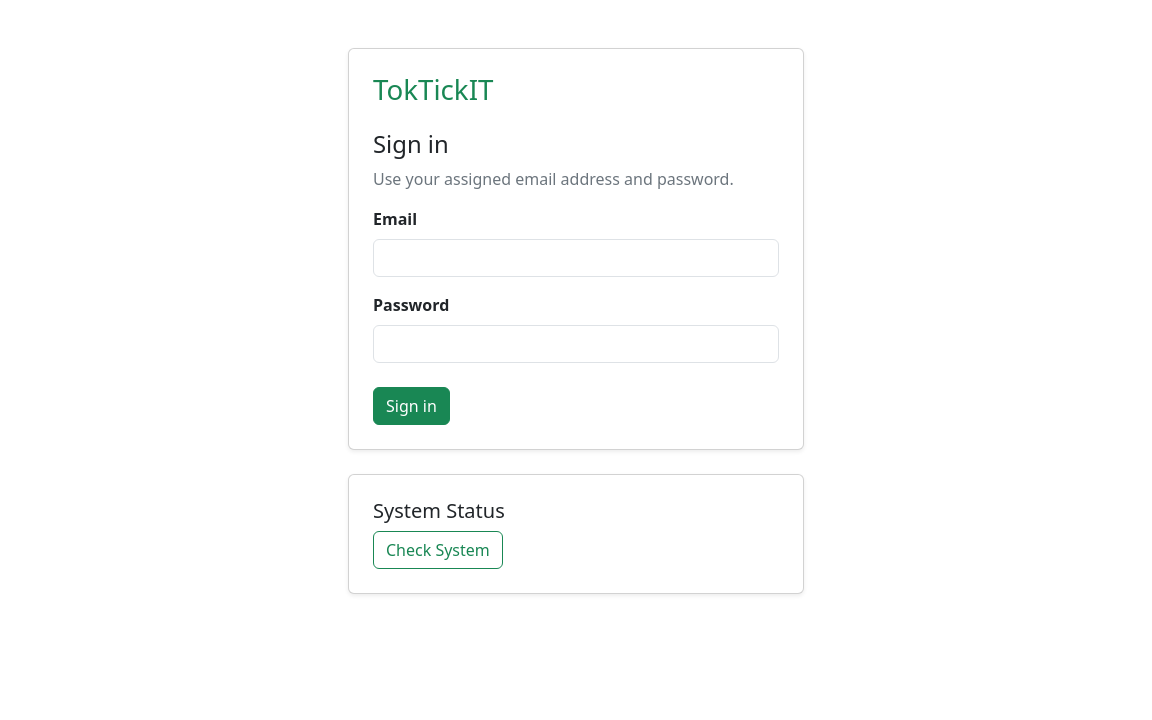
Test: Authenticated requester identity replaces development selection › uses the authenticated User for the requester shell
The width and height of the screenshot is (1152, 720).
Type "ben.carter@example.test" into the field labelled "Email". click: x=576, y=258
box: [373,239,779,277]
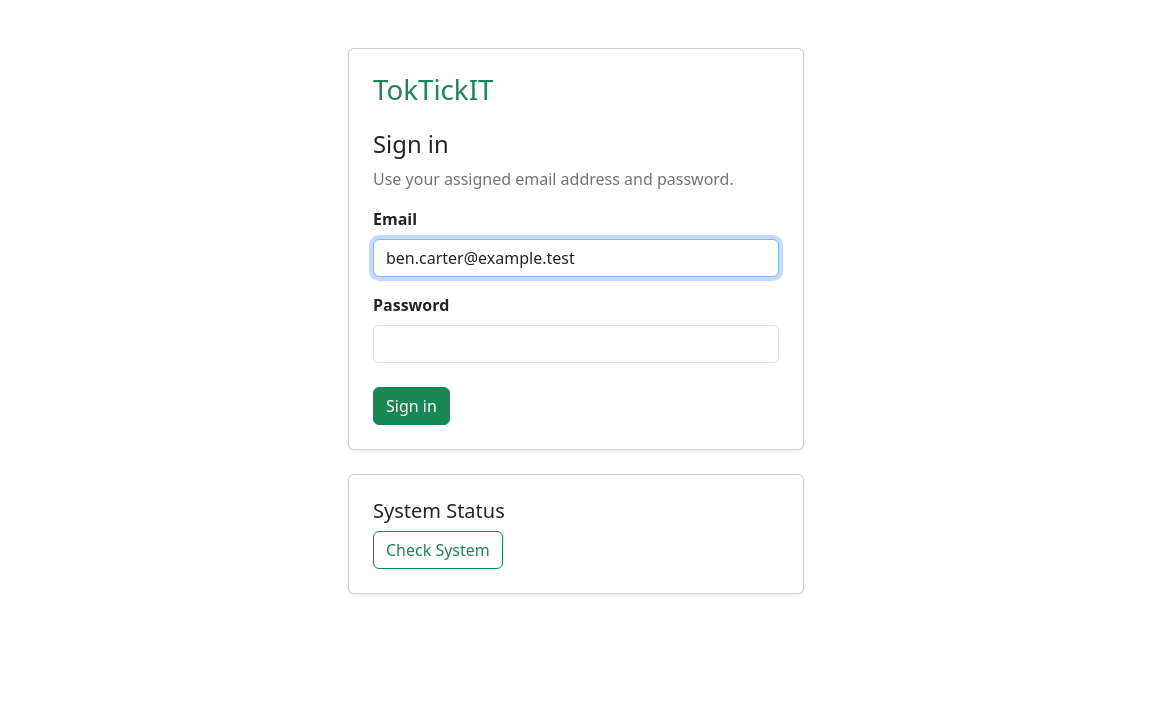
Type "Password!2026" into the password field labelled "Password". click: x=576, y=344
box: [373,325,779,363]
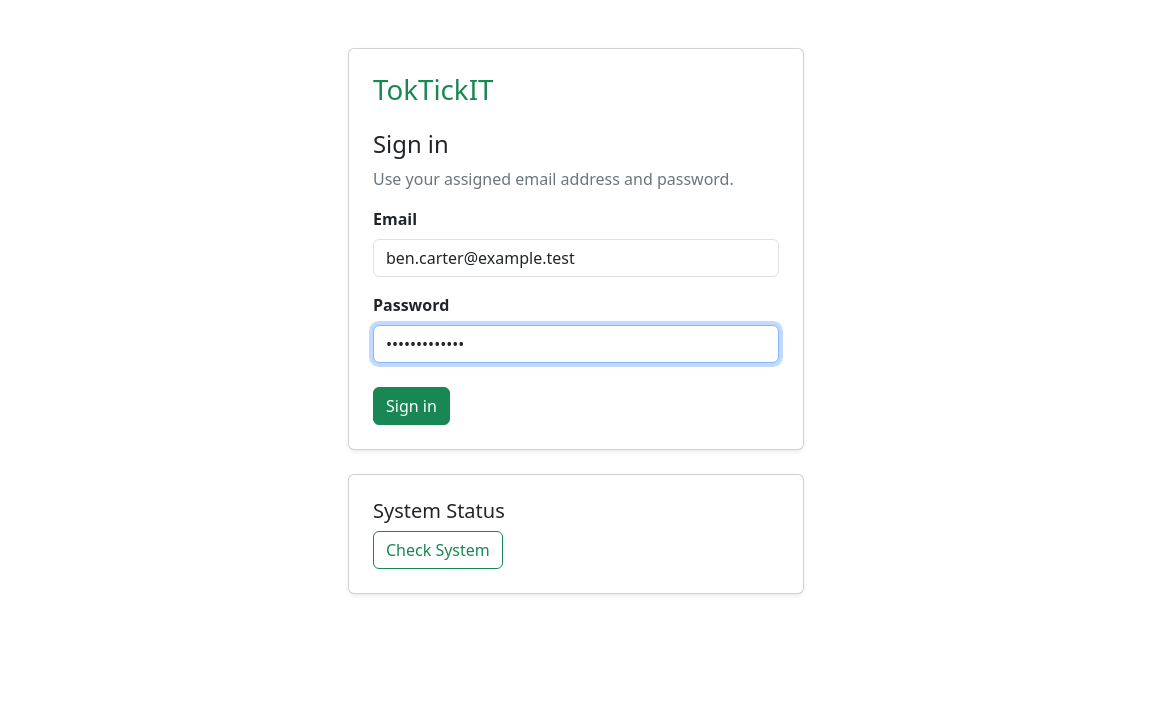
Click the button "Sign in". click: x=411, y=406
box: [373,387,450,425]
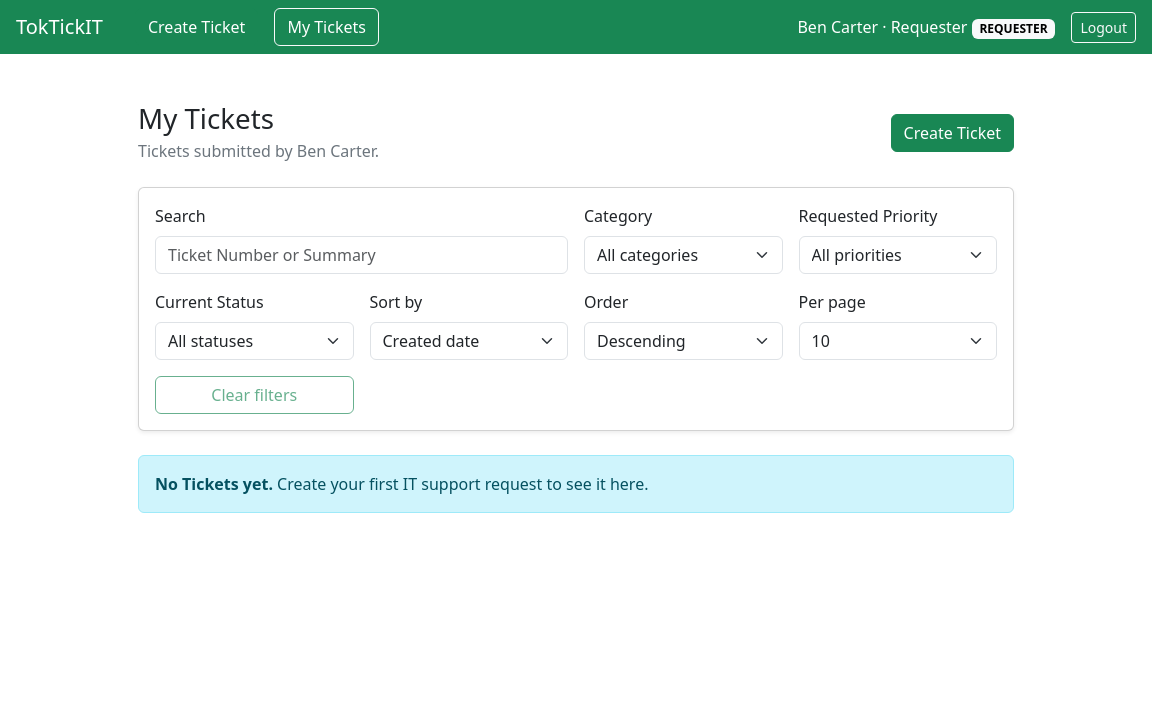
Check: the text "Ben Carter · Requester" is shown, box [798,15,1055,39]
